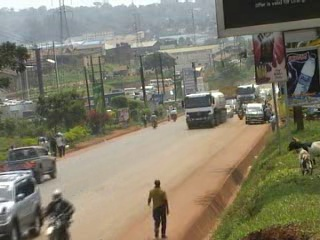Car: (0, 168, 46, 239), (223, 95, 238, 110), (225, 102, 234, 117)
Motorcycle: (39, 188, 76, 239), (146, 111, 160, 129), (235, 104, 247, 121), (169, 106, 179, 123)
